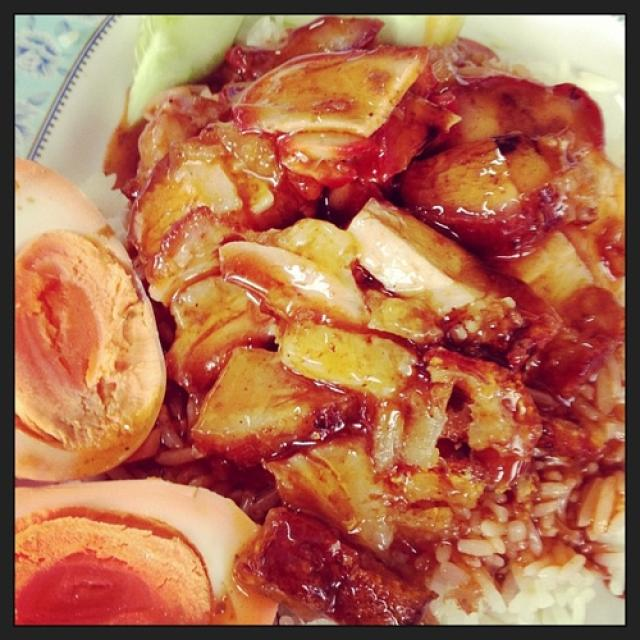猪肉菜式: (43, 35, 603, 618)
